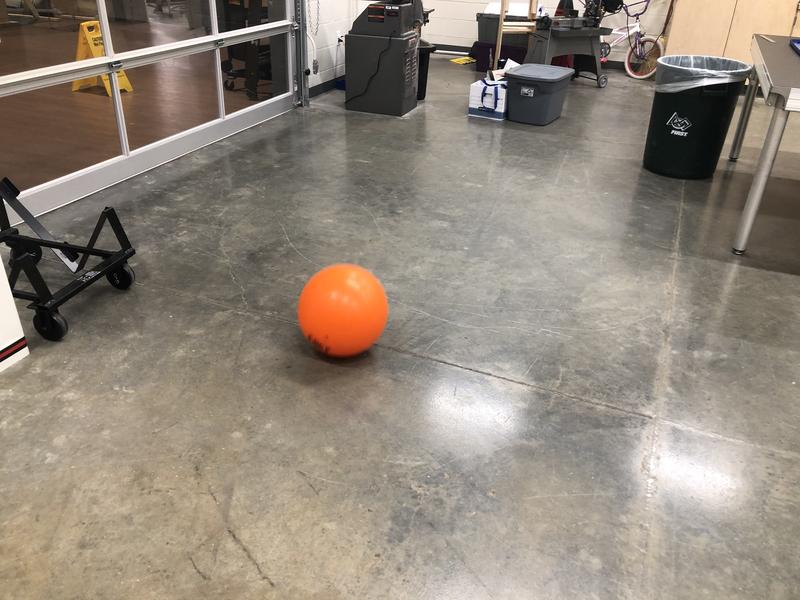ball: (299, 264, 386, 355)
